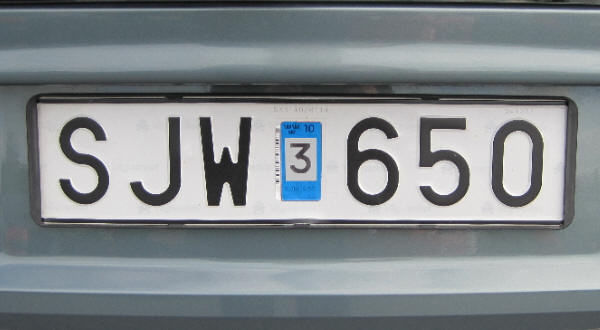license_plate: (35, 95, 568, 225)
